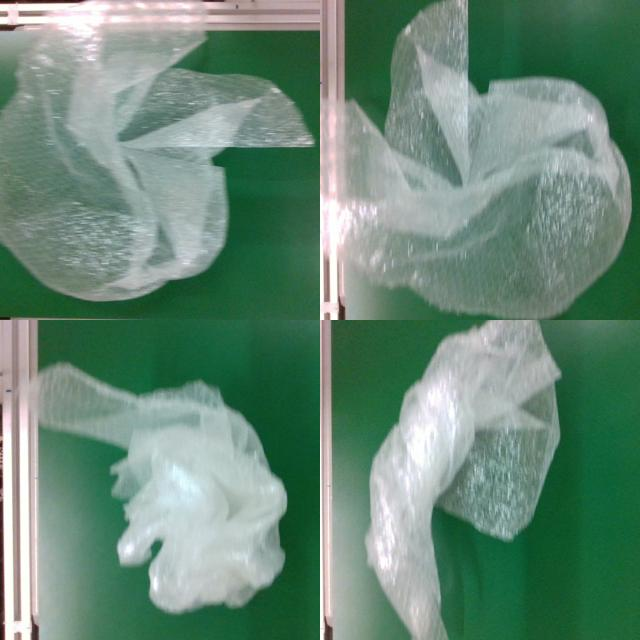Single-layer Plastic: (0, 0, 314, 301), (341, 0, 631, 319), (366, 320, 561, 640), (38, 364, 286, 614)
